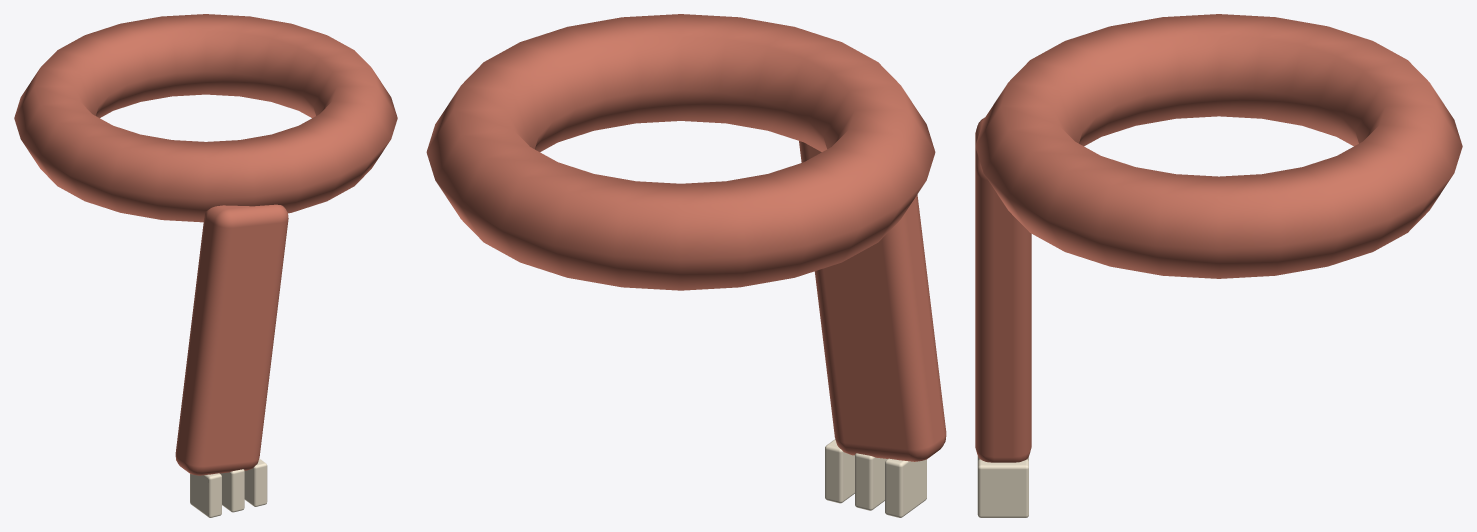
Rendered from objeto-scarf.glb.
The picture shows the model from 3 angles, left to right: view 1: azimuth 30°, elevation 25°; view 2: azimuth 150°, elevation 25°; view 3: azimuth 270°, elevation 25°; orthographic projection. The views are drawn at different scales.
Parts seen in each view (by area): view 1: equipment:scarf; view 2: equipment:scarf; view 3: equipment:scarf.
Boxes of the visible parts, <box> form: equipment:scarf: <box>14,14,397,517</box>; equipment:scarf: <box>426,14,946,517</box>; equipment:scarf: <box>975,14,1462,517</box>.
Bounding box in the file's own units: 0.294 × 0.2883 × 0.294.
